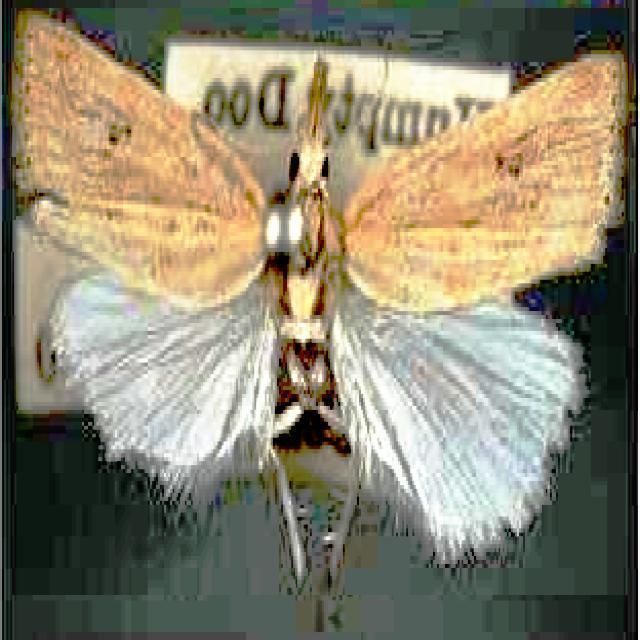stem-borer: (11, 9, 629, 594)
